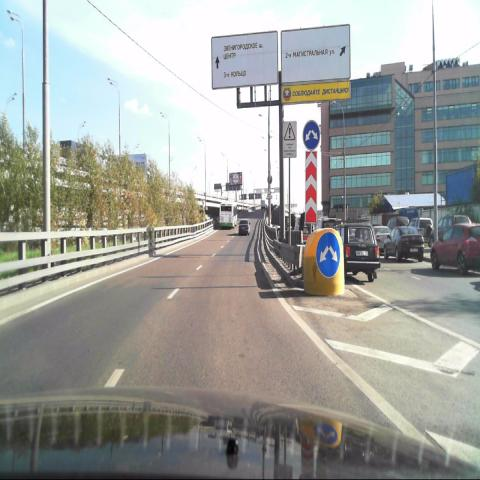4_2_3: (302, 120, 320, 151)
